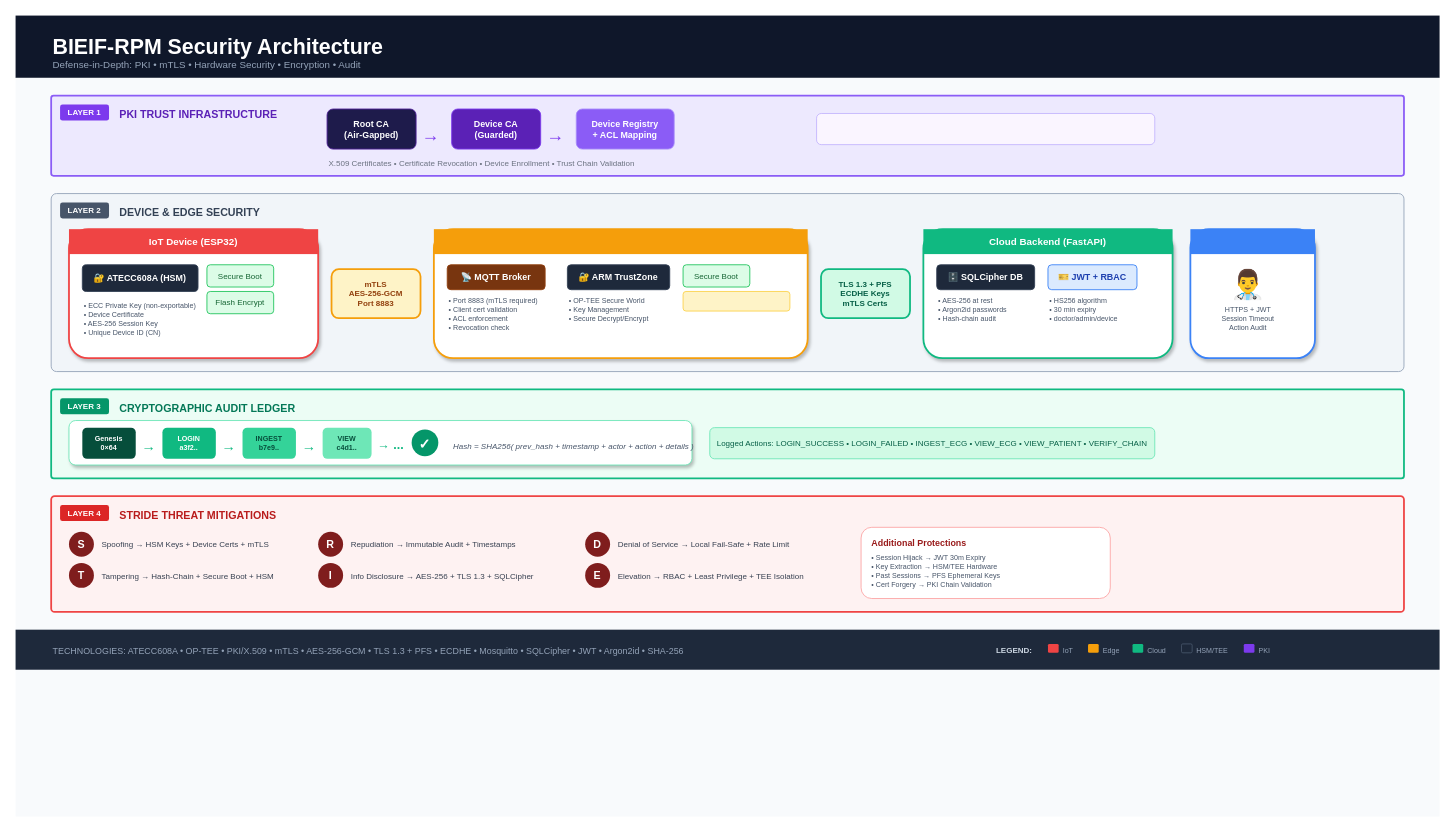
Image size: 1454x831. Some labels were removed from this diagram. Here are the shapes that lost their labels. From the top down, the centre of each, then its label:
point 985,129: ONBOARDING: HSM generates keypair → CSR → CA signs → Load cert → Add to ACL
point 620,241: Edge Processor (Raspberry Pi 4)
point 1252,241: Clinician
point 736,301: ACL: device-X→topic-X
